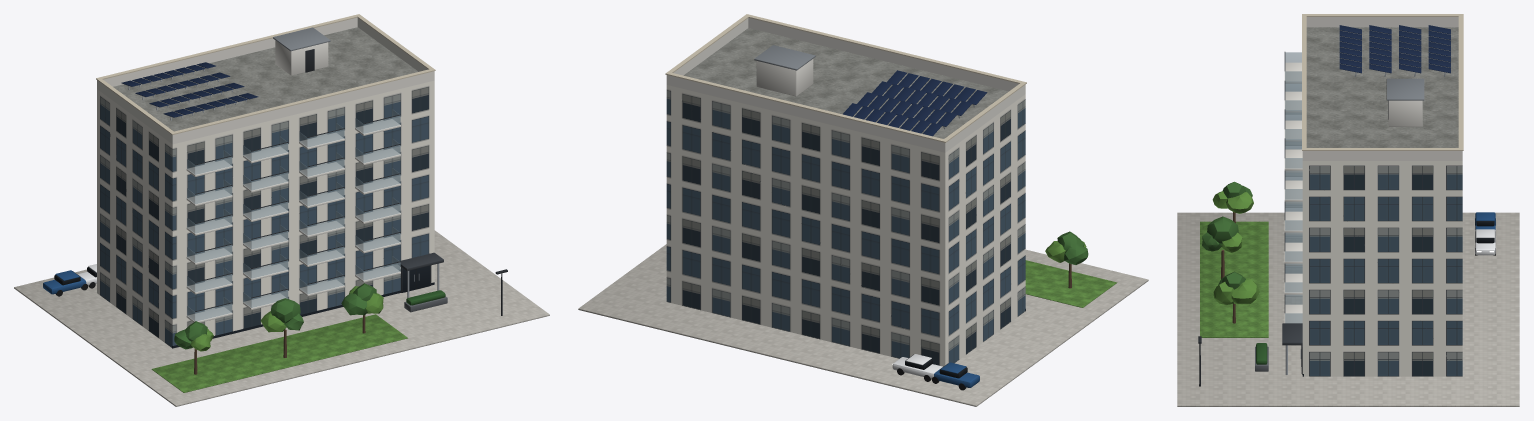
File: balcony-apartment-building.glb
3 views of the same model, side by side, from view 1: azimuth 30°, elevation 25°; view 2: azimuth 150°, elevation 25°; view 3: azimuth 270°, elevation 25° (orthographic). The views are drawn at different scales.
Visible parts, largest first — view 1: Balcony_Apartment_Building; view 2: Balcony_Apartment_Building; view 3: Balcony_Apartment_Building.
Part boxes in pixels (x1,y1,x2,y2): Balcony_Apartment_Building: (14,14,549,406); Balcony_Apartment_Building: (578,14,1148,406); Balcony_Apartment_Building: (1177,14,1519,406).
Bounding box in the file's own units: 40 × 23.75 × 30.
Materials: 23 (4 with a texture image).
